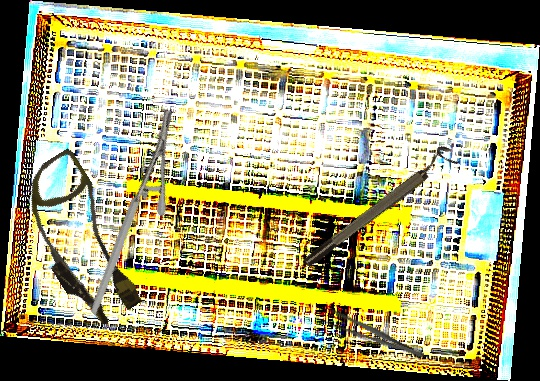Cannula: (1, 147, 160, 333)
Dressing Forceps: (312, 303, 429, 365)
Fixation Ring: (295, 141, 462, 271)
Needle Holder: (33, 106, 228, 316)
